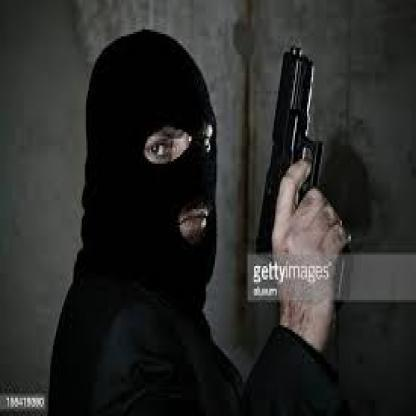criminal: (47, 27, 357, 416)
weapon: (253, 45, 351, 301)
